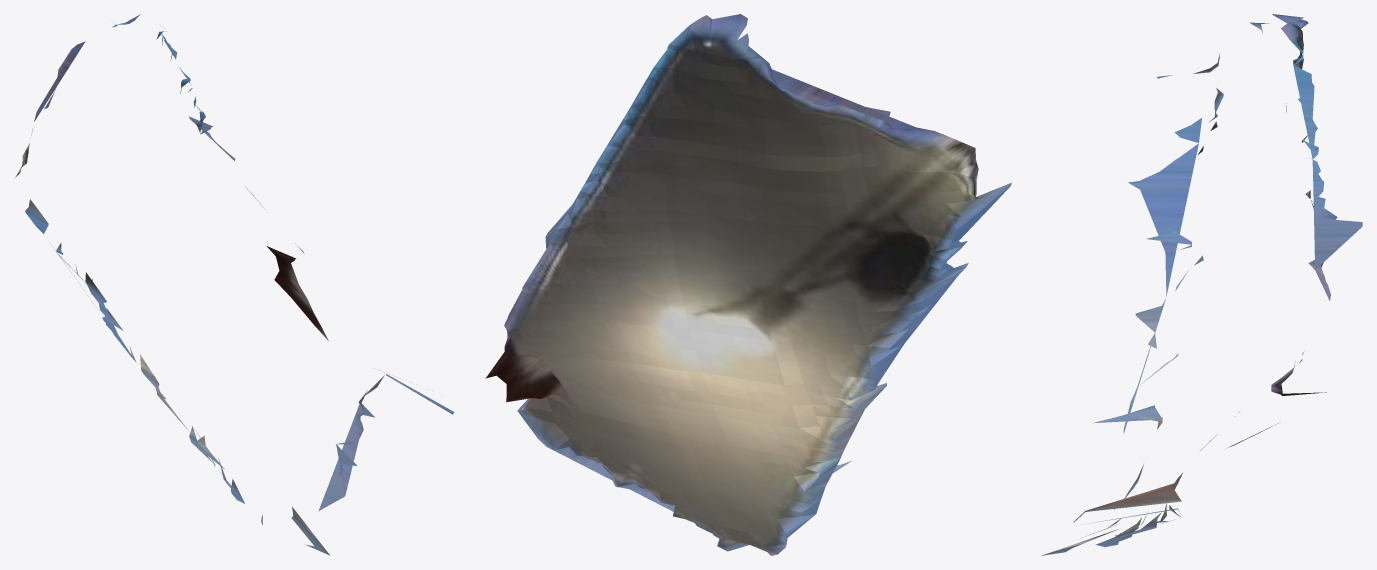
Rendered from observed-surface.glb.
The picture shows the model from 3 angles, left to right: view 1: azimuth 30°, elevation 25°; view 2: azimuth 150°, elevation 25°; view 3: azimuth 270°, elevation 25°; orthographic projection. The views are drawn at different scales.
Visible parts, largest first — view 1: geometry_0; view 2: geometry_0; view 3: geometry_0.
Boxes of the visible parts, left/top/right/bottom form: geometry_0: left=14, top=14, right=454, bottom=555; geometry_0: left=485, top=14, right=1011, bottom=555; geometry_0: left=1041, top=14, right=1362, bottom=555.
Size of the model in its own units: 0.3853 by 0.471 by 0.2753.
1 material, 1 textured.
